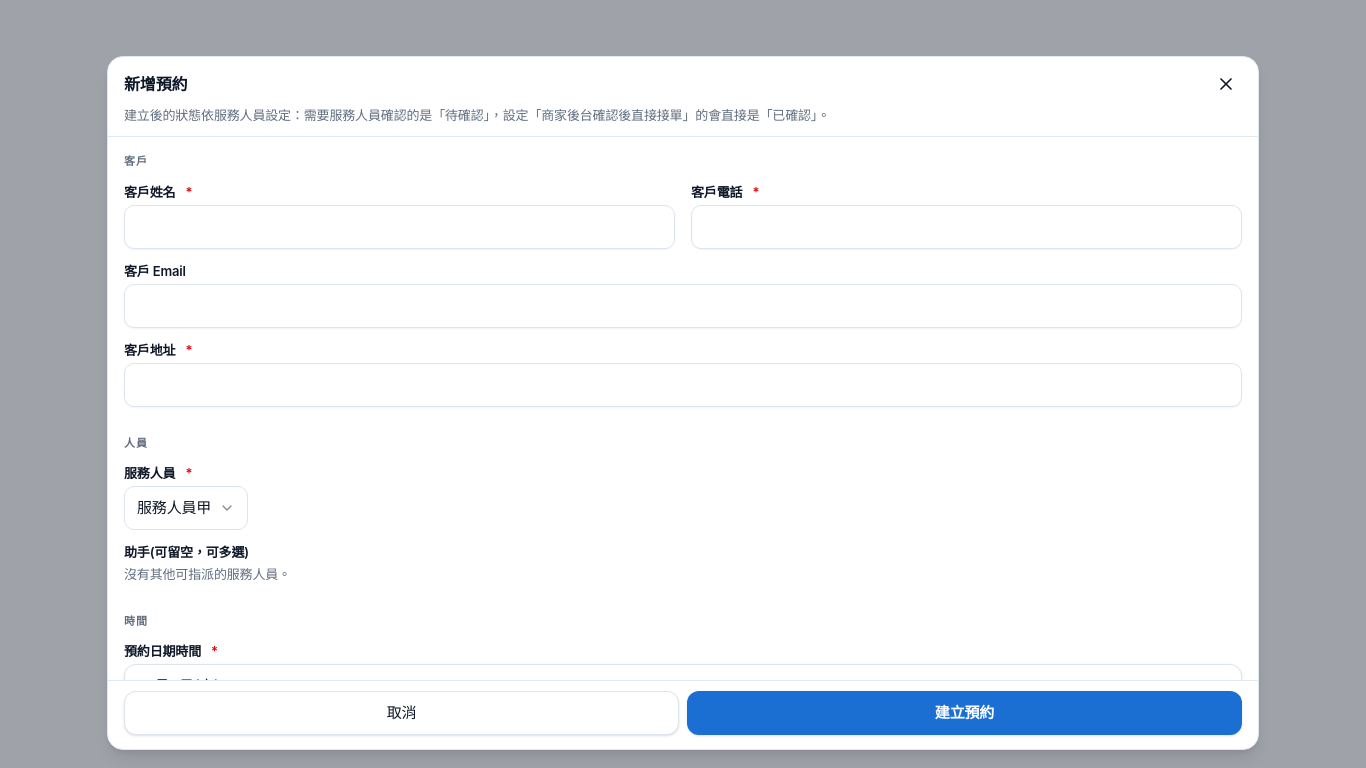
Test: 建單表單 × 會員面板(#915 / #936) › #936 到府派工:點選候選 ⇒ 電話 / 姓名 / 地址一次帶入(覆蓋原本打的字),面板切到狀態 C
The image size is (1366, 768).
In the field with id "booking-customer-name": (400, 227) [124,205,675,249], type "客服先打的名字"
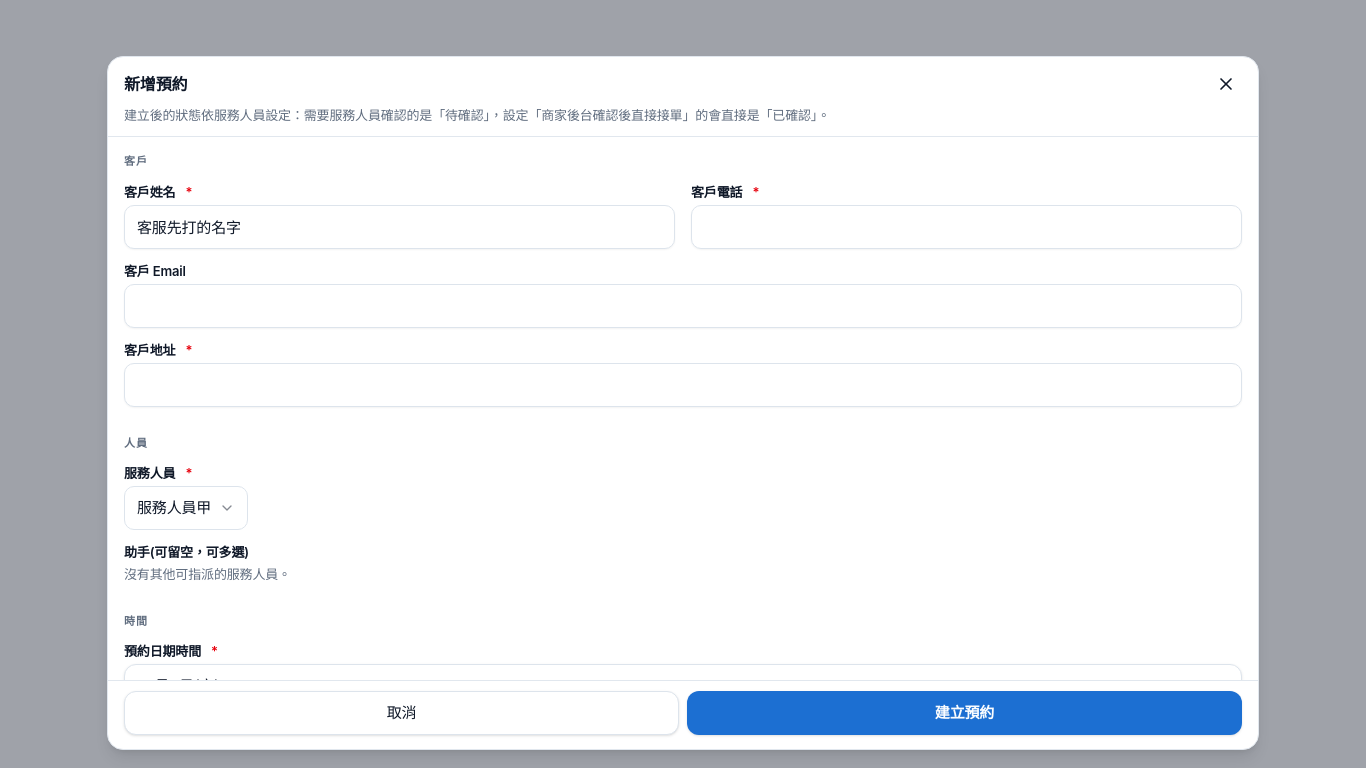
In the field with id "booking-customer-address": (683, 385) [124,363,1242,407], type "先打的地址"
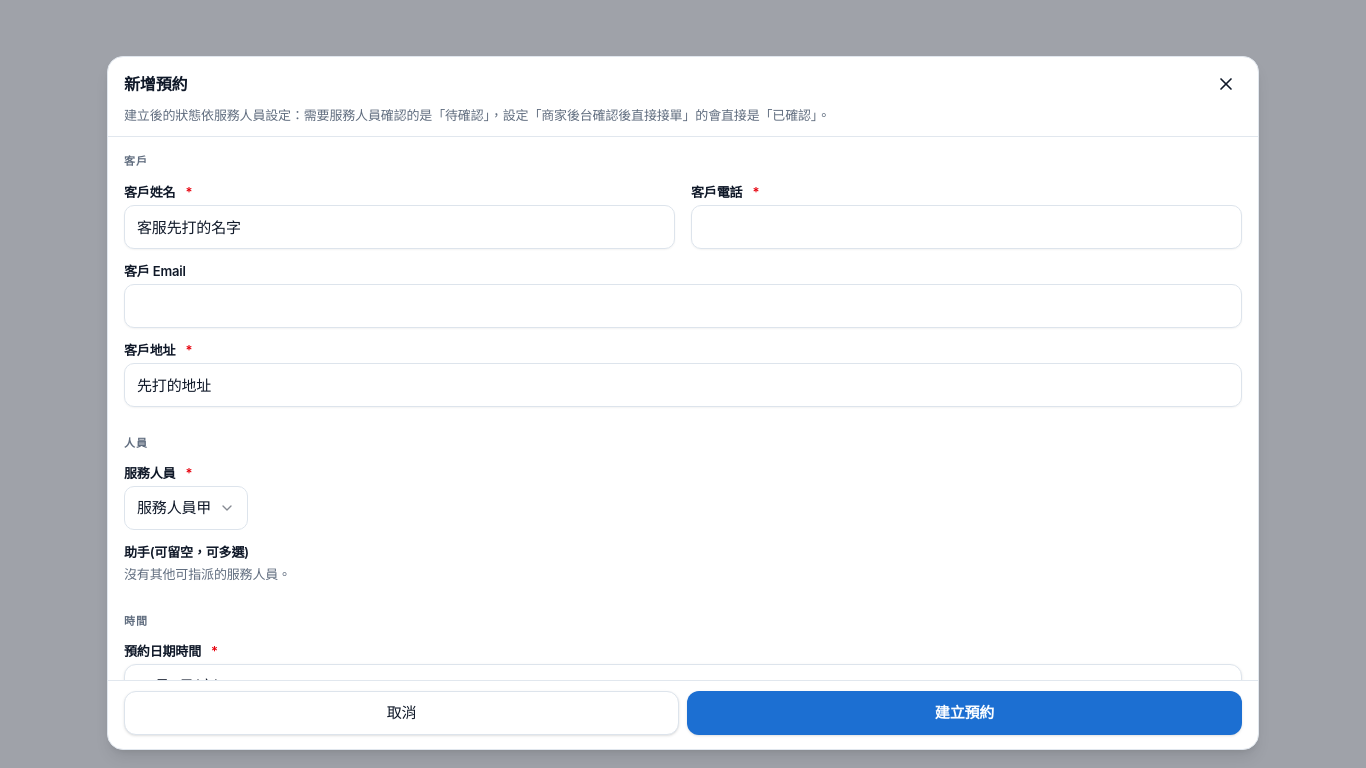
In the field with id "booking-customer-phone": (966, 227) [691,205,1242,249], type "0903"
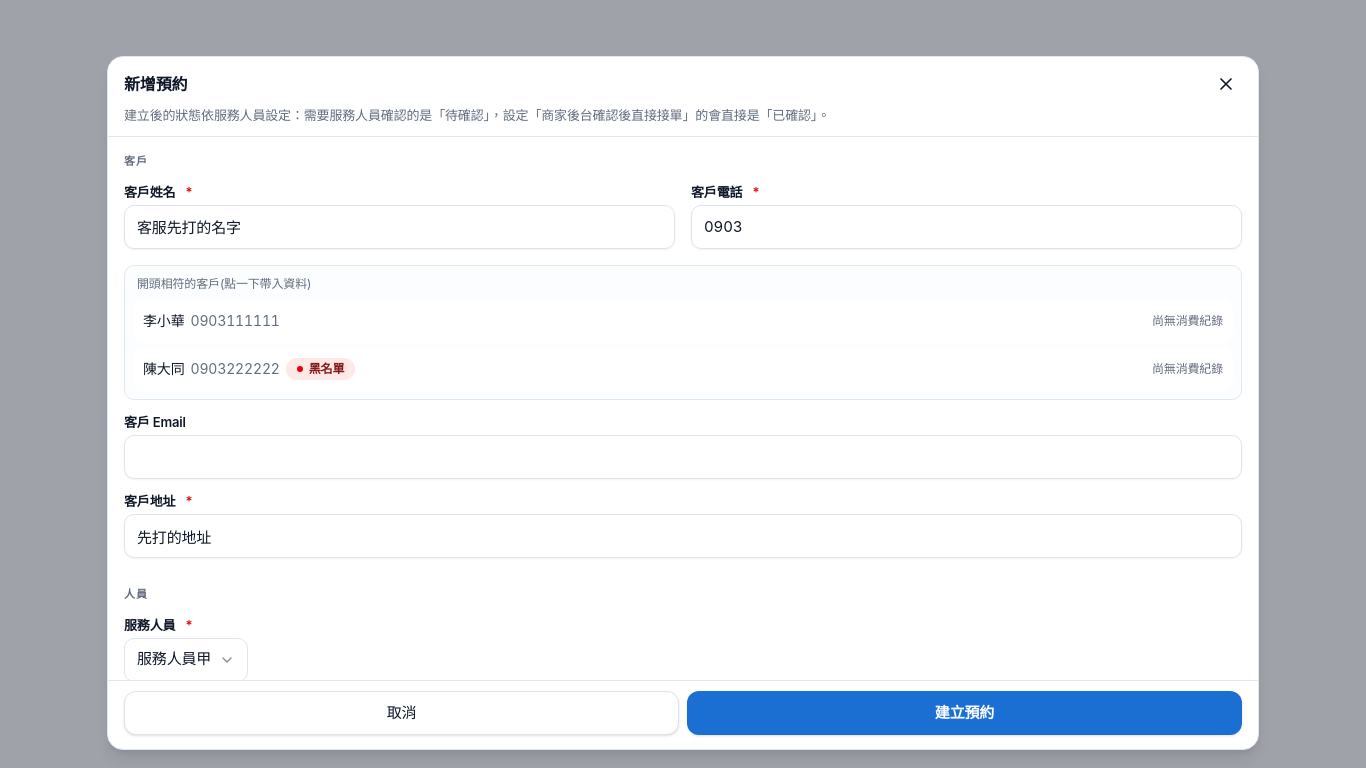
Click the button "李小華 0903111111 尚無消費紀錄": (164, 321) [133,299,1233,343]
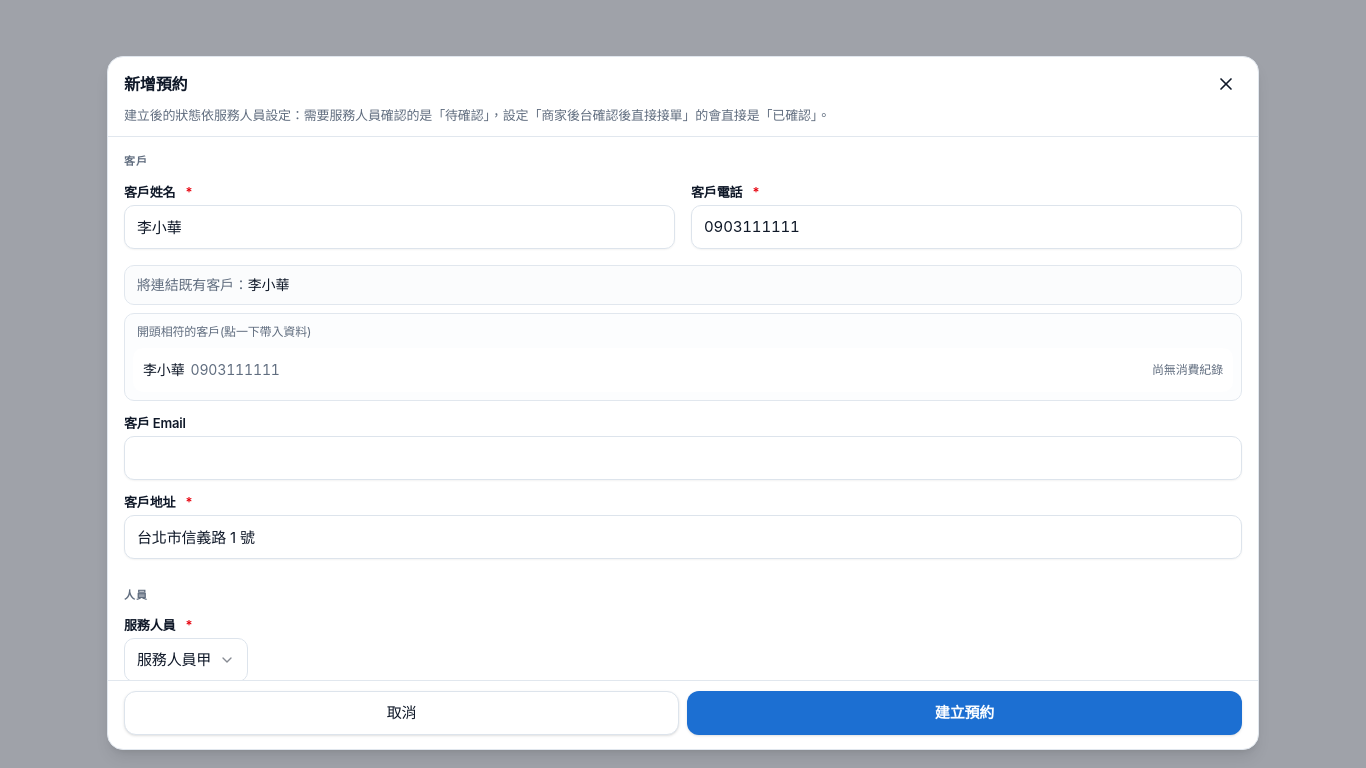
Check: the field with id "booking-customer-phone" holds "0903111111", box [691,205,1242,249]
Check: the field with id "booking-customer-name" holds "李小華", box [124,205,675,249]
Check: the field with id "booking-customer-address" holds "台北市信義路 1 號", box [124,515,1242,559]
